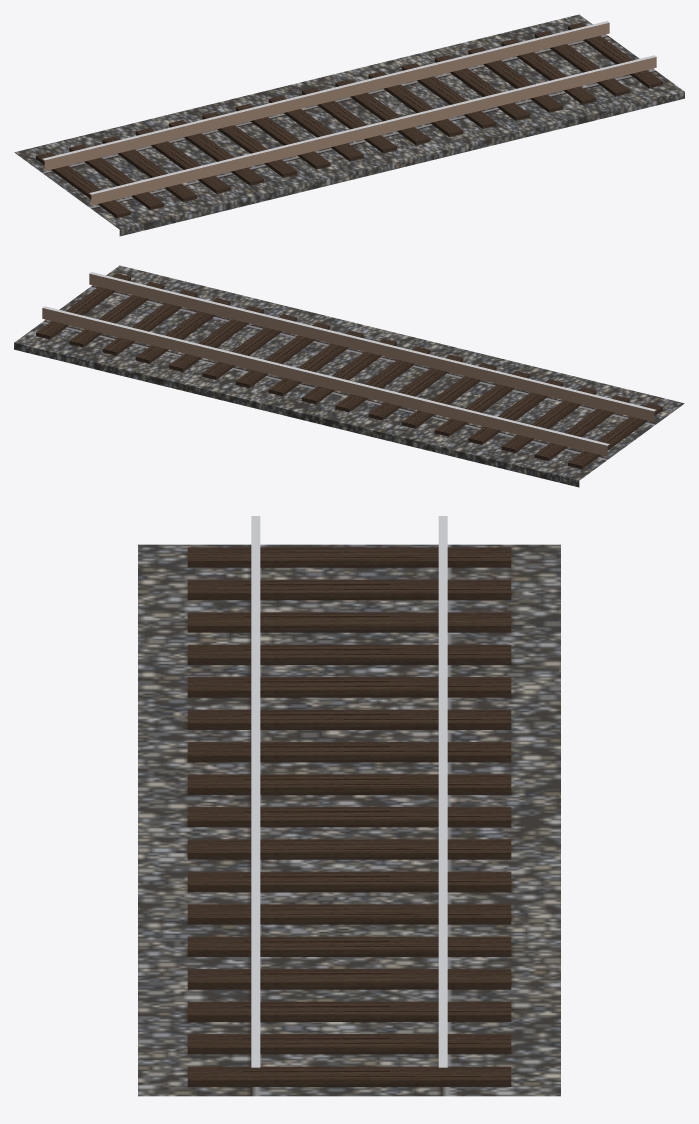
Rendered from kolej_sikma_drevo.glb.
The picture shows the model from 3 angles, top to bottom: view 1: azimuth 30°, elevation 25°; view 2: azimuth 150°, elevation 25°; view 3: azimuth 270°, elevation 25°; orthographic projection. The views are drawn at different scales.
Parts seen in each view (by area): view 1: kolej_sikma_drevo; view 2: kolej_sikma_drevo; view 3: kolej_sikma_drevo.
Boxes of the visible parts, <box> form: kolej_sikma_drevo: <box>14,14,684,236</box>; kolej_sikma_drevo: <box>14,265,684,487</box>; kolej_sikma_drevo: <box>138,516,560,1096</box>.
Bounding box in the file's own units: 10.49 × 0.373 × 3.4.
4 materials, 2 textured.
